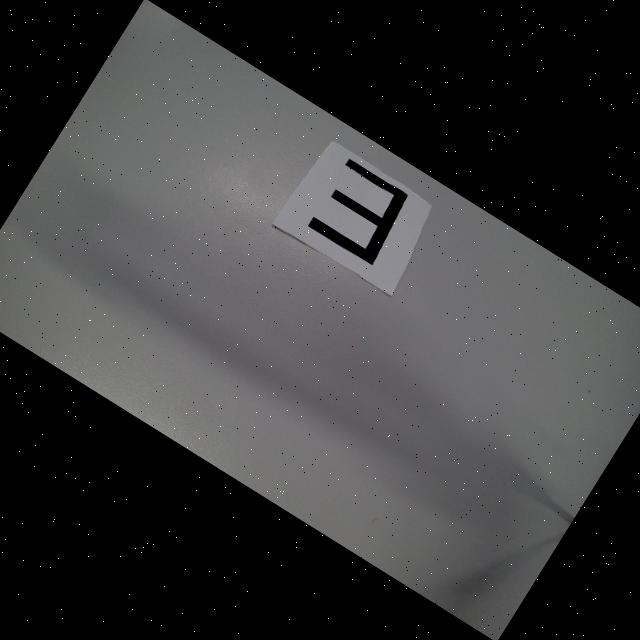FAKE: (306, 156, 416, 268)
